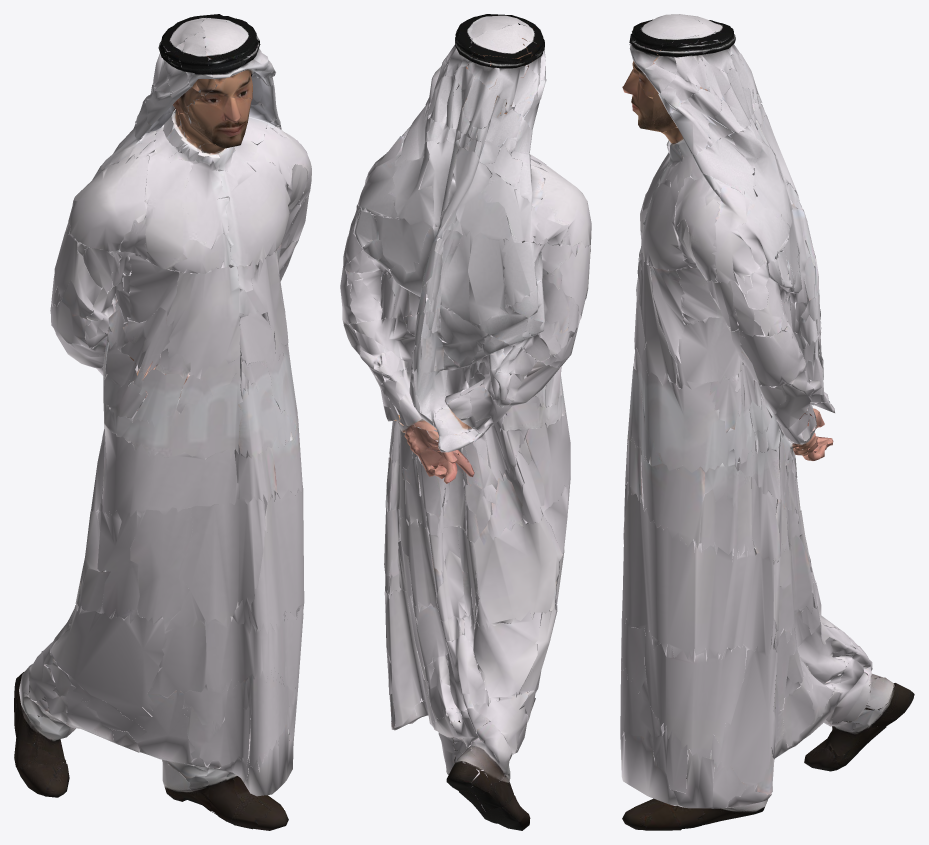
File: gcc-walking.glb
3 views of the same model, side by side, from view 1: azimuth 30°, elevation 25°; view 2: azimuth 150°, elevation 25°; view 3: azimuth 270°, elevation 25° (orthographic). The views are drawn at different scales.
Visible parts, largest first — view 1: Mesh_0; view 2: Mesh_0; view 3: Mesh_0.
Part boxes in pixels (<box>): Mesh_0: <box>14,14,311,830</box>; Mesh_0: <box>340,14,591,830</box>; Mesh_0: <box>620,14,914,830</box>.
Size of the model in its own units: 0.6244 by 1.9 by 0.645.
Materials: 1 (1 with a texture image).
